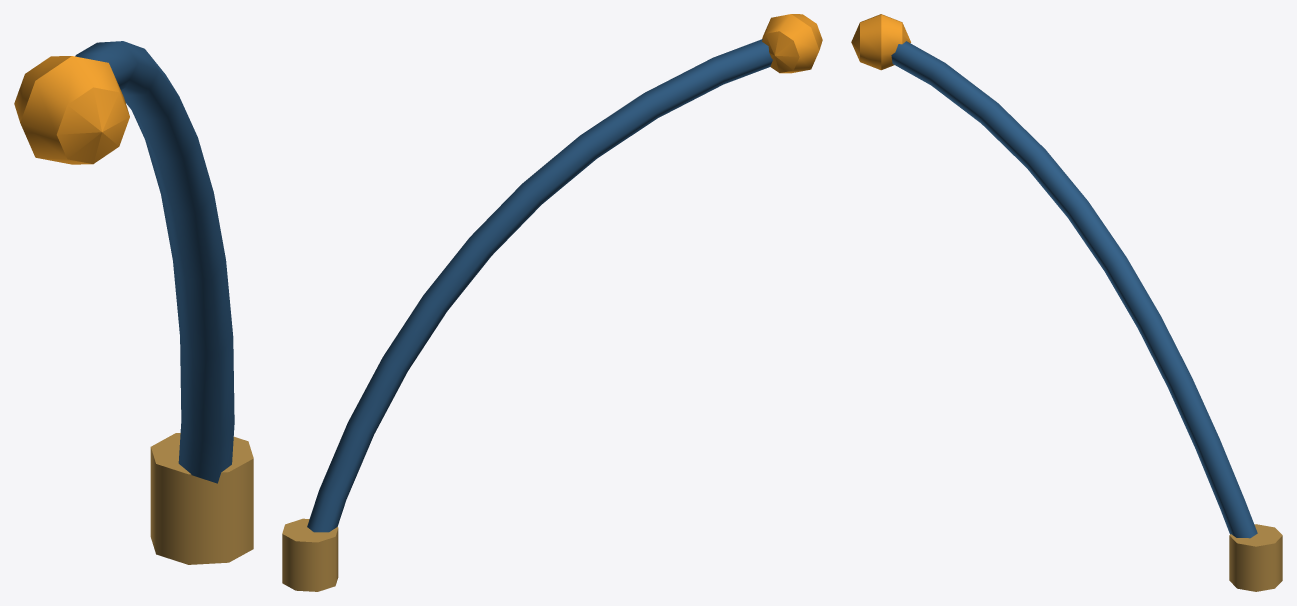
The model's file is rm2_antenna_r.obj.
3 renders of one model, left to right at view 1: azimuth 30°, elevation 25°; view 2: azimuth 150°, elevation 25°; view 3: azimuth 270°, elevation 25°, orthographic. The views are drawn at different scales.
Visible parts, largest first — view 1: rm2_antenna_r; view 2: rm2_antenna_r; view 3: rm2_antenna_r.
Boxes of the visible parts, x1,y1,x2,y2 form: rm2_antenna_r: [14, 41, 253, 564]; rm2_antenna_r: [282, 14, 822, 591]; rm2_antenna_r: [851, 14, 1282, 591].
Size of the model in its own units: 0.209 by 0.293 by 0.259.
